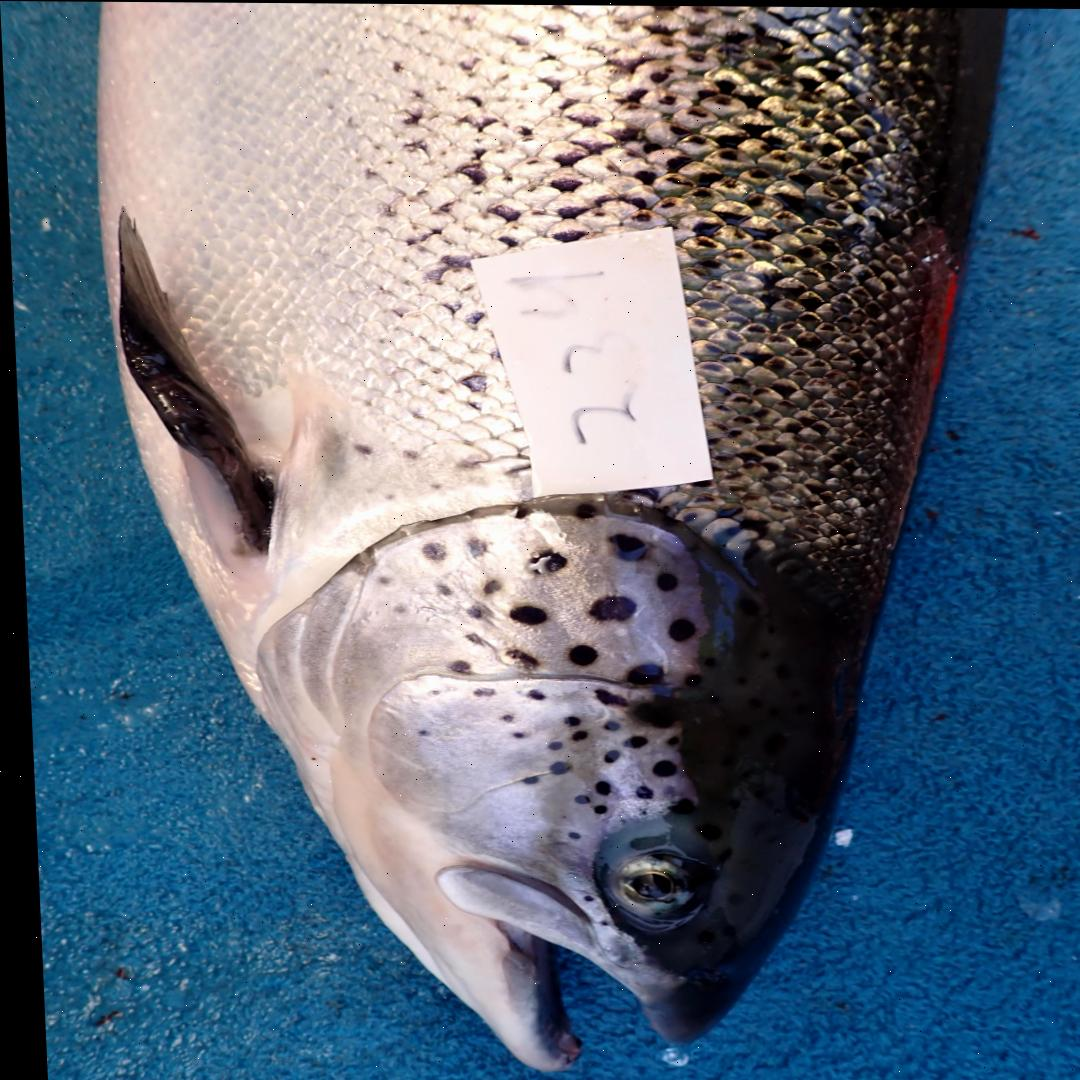spot: (626, 692, 676, 727), (584, 594, 631, 620), (605, 532, 644, 559), (522, 549, 562, 571), (619, 662, 657, 683), (503, 604, 541, 624), (661, 616, 690, 640), (498, 648, 531, 667), (587, 688, 620, 705), (563, 644, 592, 663), (416, 542, 440, 560), (650, 570, 671, 590), (645, 758, 669, 775), (661, 797, 687, 812), (463, 538, 483, 556), (569, 501, 590, 517), (618, 734, 642, 747), (460, 632, 484, 645), (543, 759, 564, 773), (429, 579, 447, 595), (553, 714, 574, 727), (444, 658, 464, 671), (479, 578, 496, 593), (678, 672, 695, 686), (520, 687, 538, 700), (466, 686, 489, 696), (629, 784, 646, 797), (588, 779, 603, 793), (659, 734, 674, 747), (563, 729, 580, 740), (515, 772, 532, 783), (510, 505, 525, 517), (462, 606, 477, 617), (598, 749, 613, 760), (568, 792, 582, 803), (597, 720, 613, 729), (386, 603, 401, 612), (540, 740, 554, 749), (586, 803, 600, 812), (494, 712, 507, 721), (560, 830, 572, 838), (505, 731, 517, 737), (410, 728, 422, 734), (425, 689, 433, 695)
